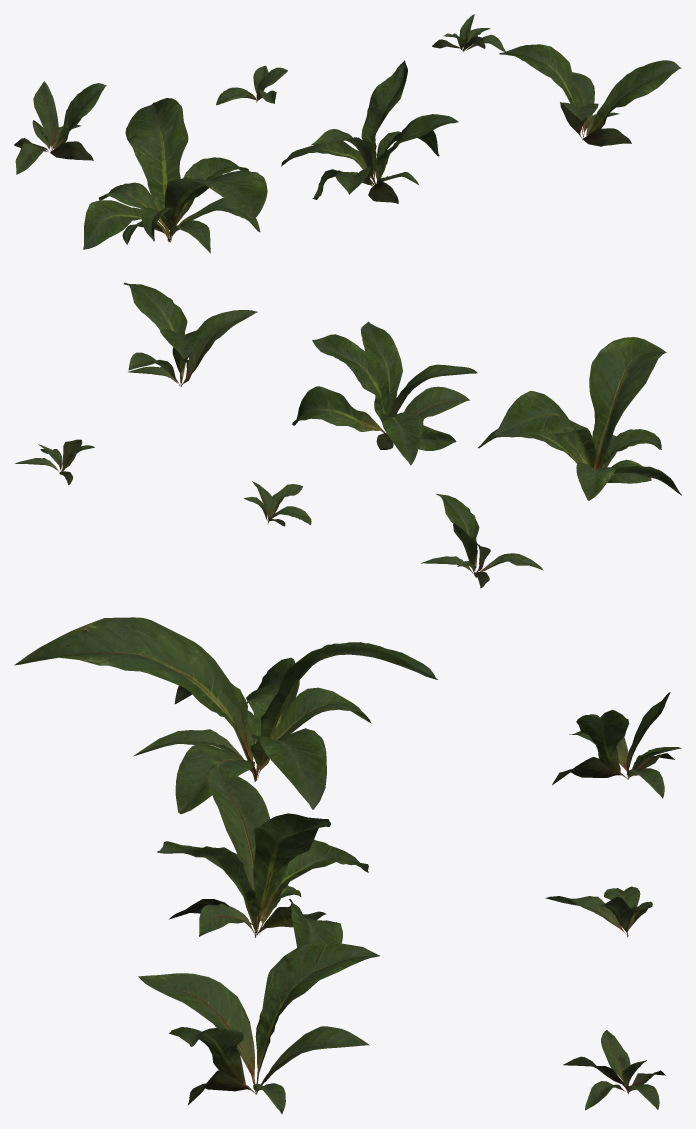
File: anthurium_botany_01.glb
The picture shows the model from 3 angles, top to bottom: view 1: azimuth 30°, elevation 25°; view 2: azimuth 150°, elevation 25°; view 3: azimuth 270°, elevation 25°; orthographic projection. The views are drawn at different scales.
Parts seen in each view (by area): view 1: anthurium_botany_01_a; view 2: anthurium_botany_01_a; view 3: anthurium_botany_01_a.
Boxes of the visible parts, <box> form: anthurium_botany_01_a: <box>14,14,681,253</box>; anthurium_botany_01_a: <box>15,282,681,588</box>; anthurium_botany_01_a: <box>14,617,681,1113</box>.
Bounding box in the file's own units: 2.8 × 0.498 × 1.8.
1 material, 1 textured.
